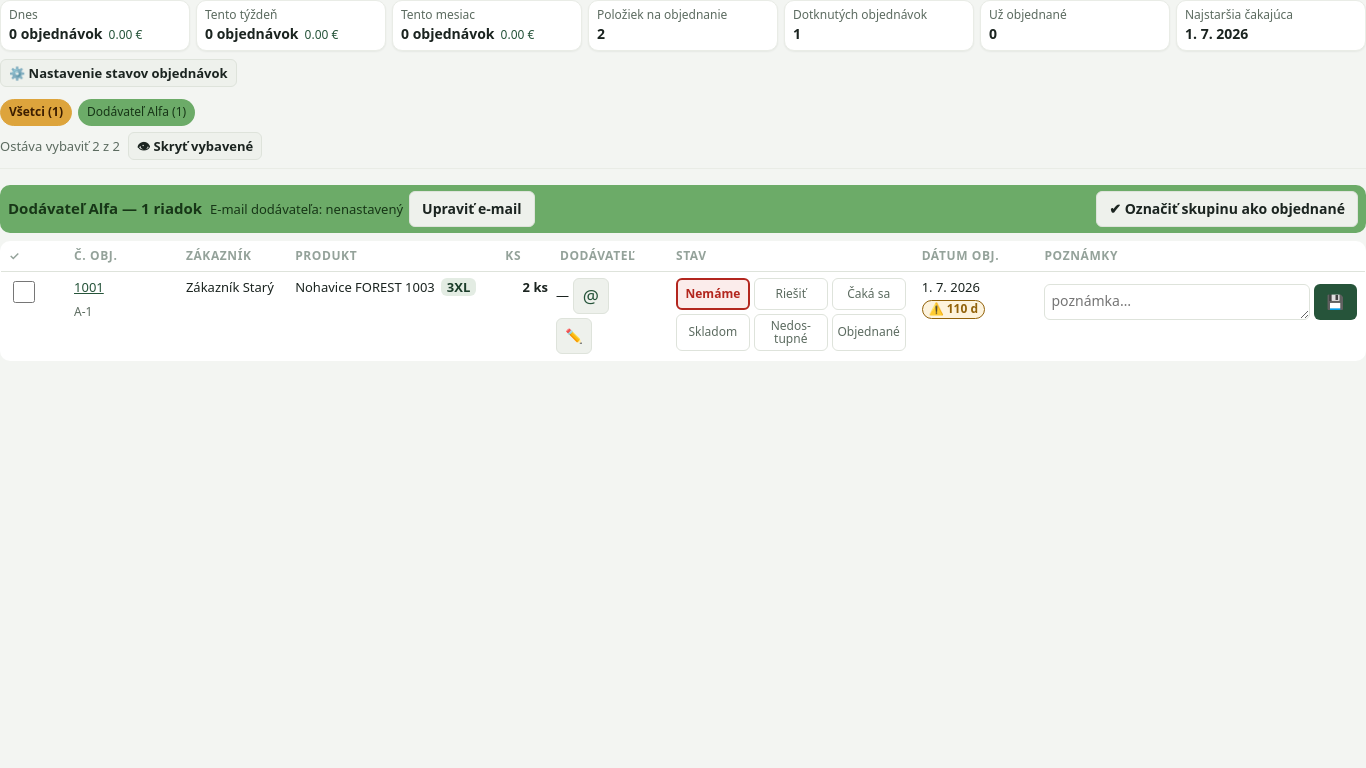
Scenario: klik @ otvorí okno predvyplnené menom + číslom objednávky, potvrdenie odošle presne ten text
Click the button "@": (591, 296) [573,278,609,314]
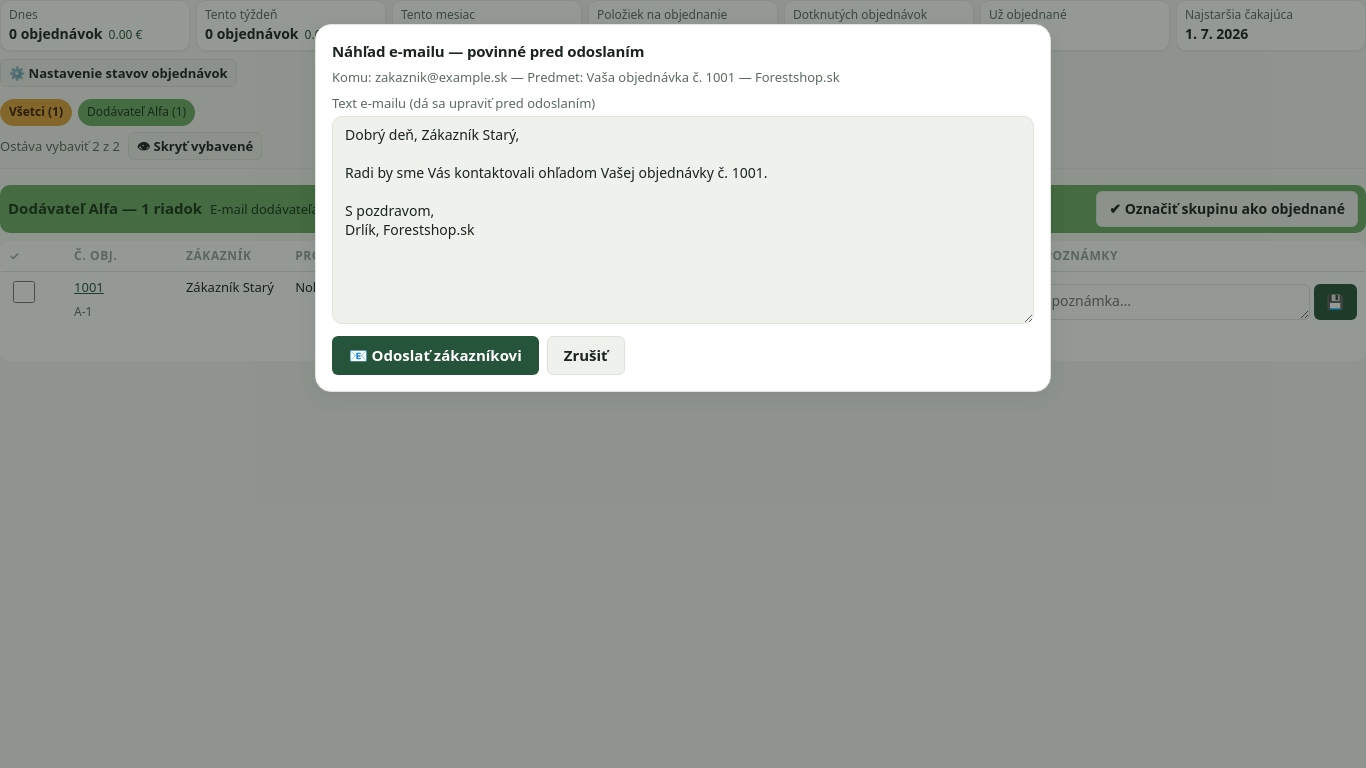
Expected: the dialog with test id "customer-contact-preview" shows "zakaznik@example.sk", [375,68,508,86]
Click the button with test id "customer-contact-preview-confirm": (435, 356) [332,336,539,375]
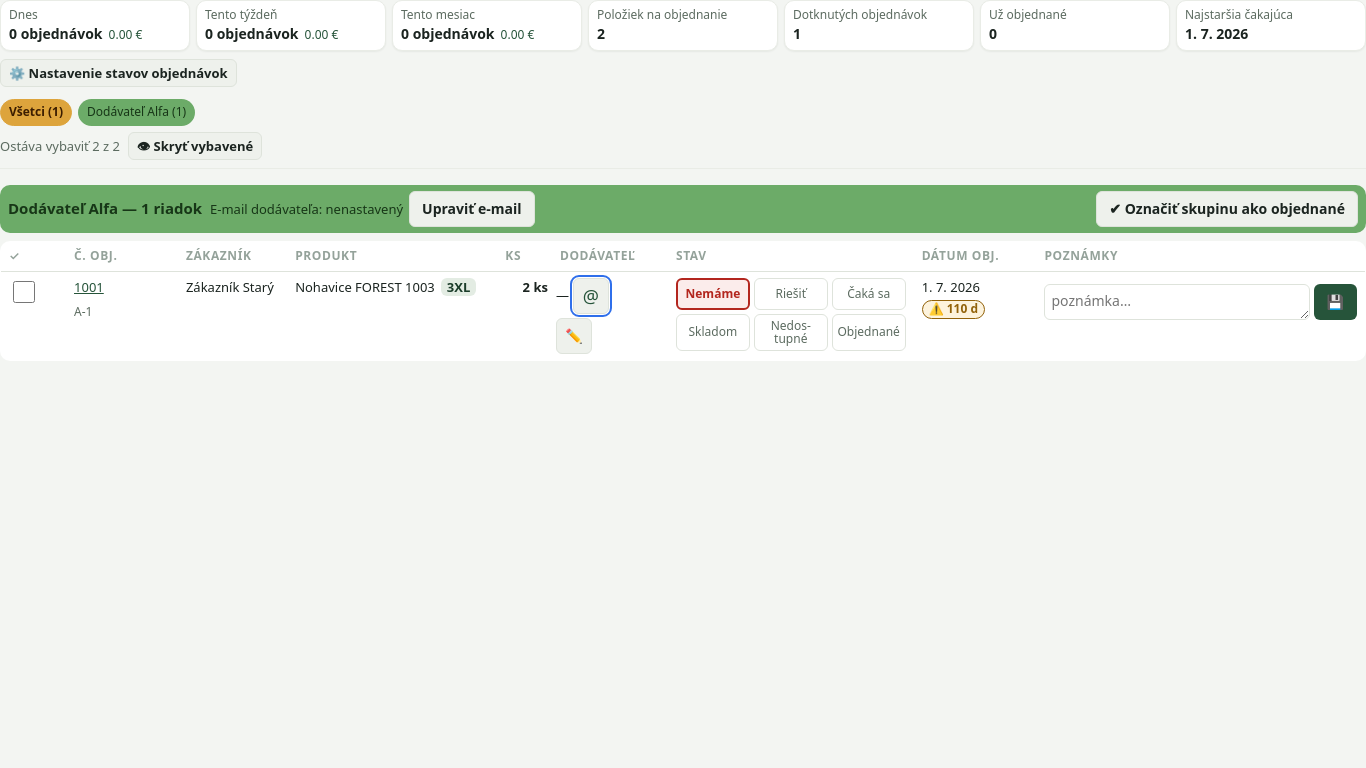
Expected: the dialog with test id "customer-contact-preview" is gone
